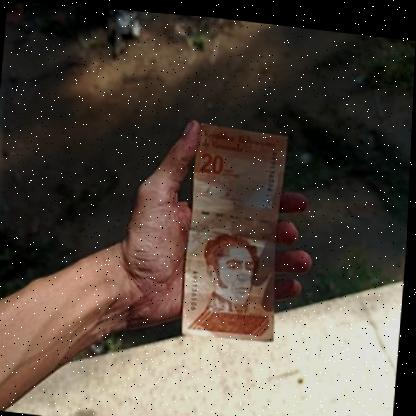twenty-front-vef: (182, 116, 290, 341)
